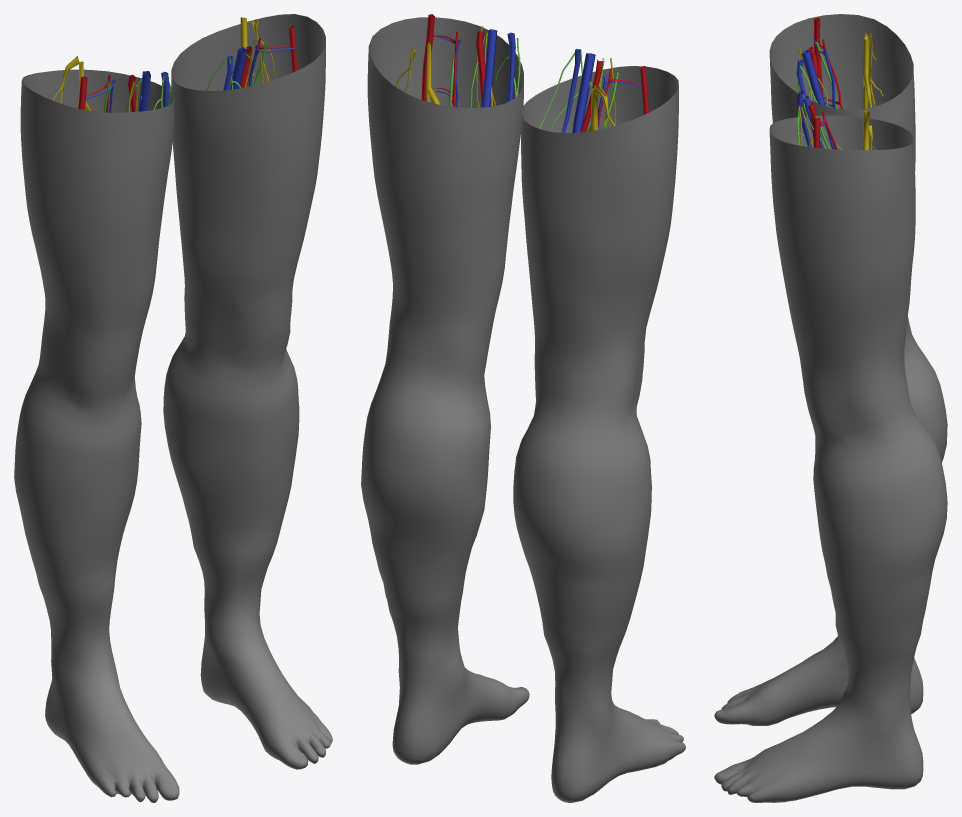
The picture shows the model from 3 angles, left to right: view 1: azimuth 30°, elevation 25°; view 2: azimuth 150°, elevation 25°; view 3: azimuth 270°, elevation 25°; orthographic projection. The views are drawn at different scales.
Visible parts, largest first — view 1: Skin, LowerLimbVeins, LowerLimbArteries, Nervous, LymphVessel; view 2: Skin, LowerLimbVeins, LowerLimbArteries, Nervous, LymphVessel; view 3: Skin, LowerLimbVeins, Nervous, LowerLimbArteries, LymphVessel.
Part boxes in pixels (x1,y1,x2,y2): Skin: [14, 14, 332, 802]; LowerLimbVeins: [85, 45, 295, 745]; LowerLimbArteries: [78, 25, 297, 112]; Nervous: [52, 17, 315, 791]; LymphVessel: [103, 43, 266, 112]; Skin: [361, 17, 685, 802]; LowerLimbVeins: [433, 29, 641, 132]; LowerLimbArteries: [421, 14, 648, 132]; Nervous: [395, 26, 615, 131]; LymphVessel: [449, 33, 618, 131]; Skin: [714, 14, 947, 802]; LowerLimbVeins: [729, 40, 835, 786]; Nervous: [723, 31, 882, 782]; LowerLimbArteries: [735, 17, 843, 795]; LymphVessel: [797, 41, 841, 149].
Bounding box in the file's own units: 0.7323 × 1.72 × 0.5281.
